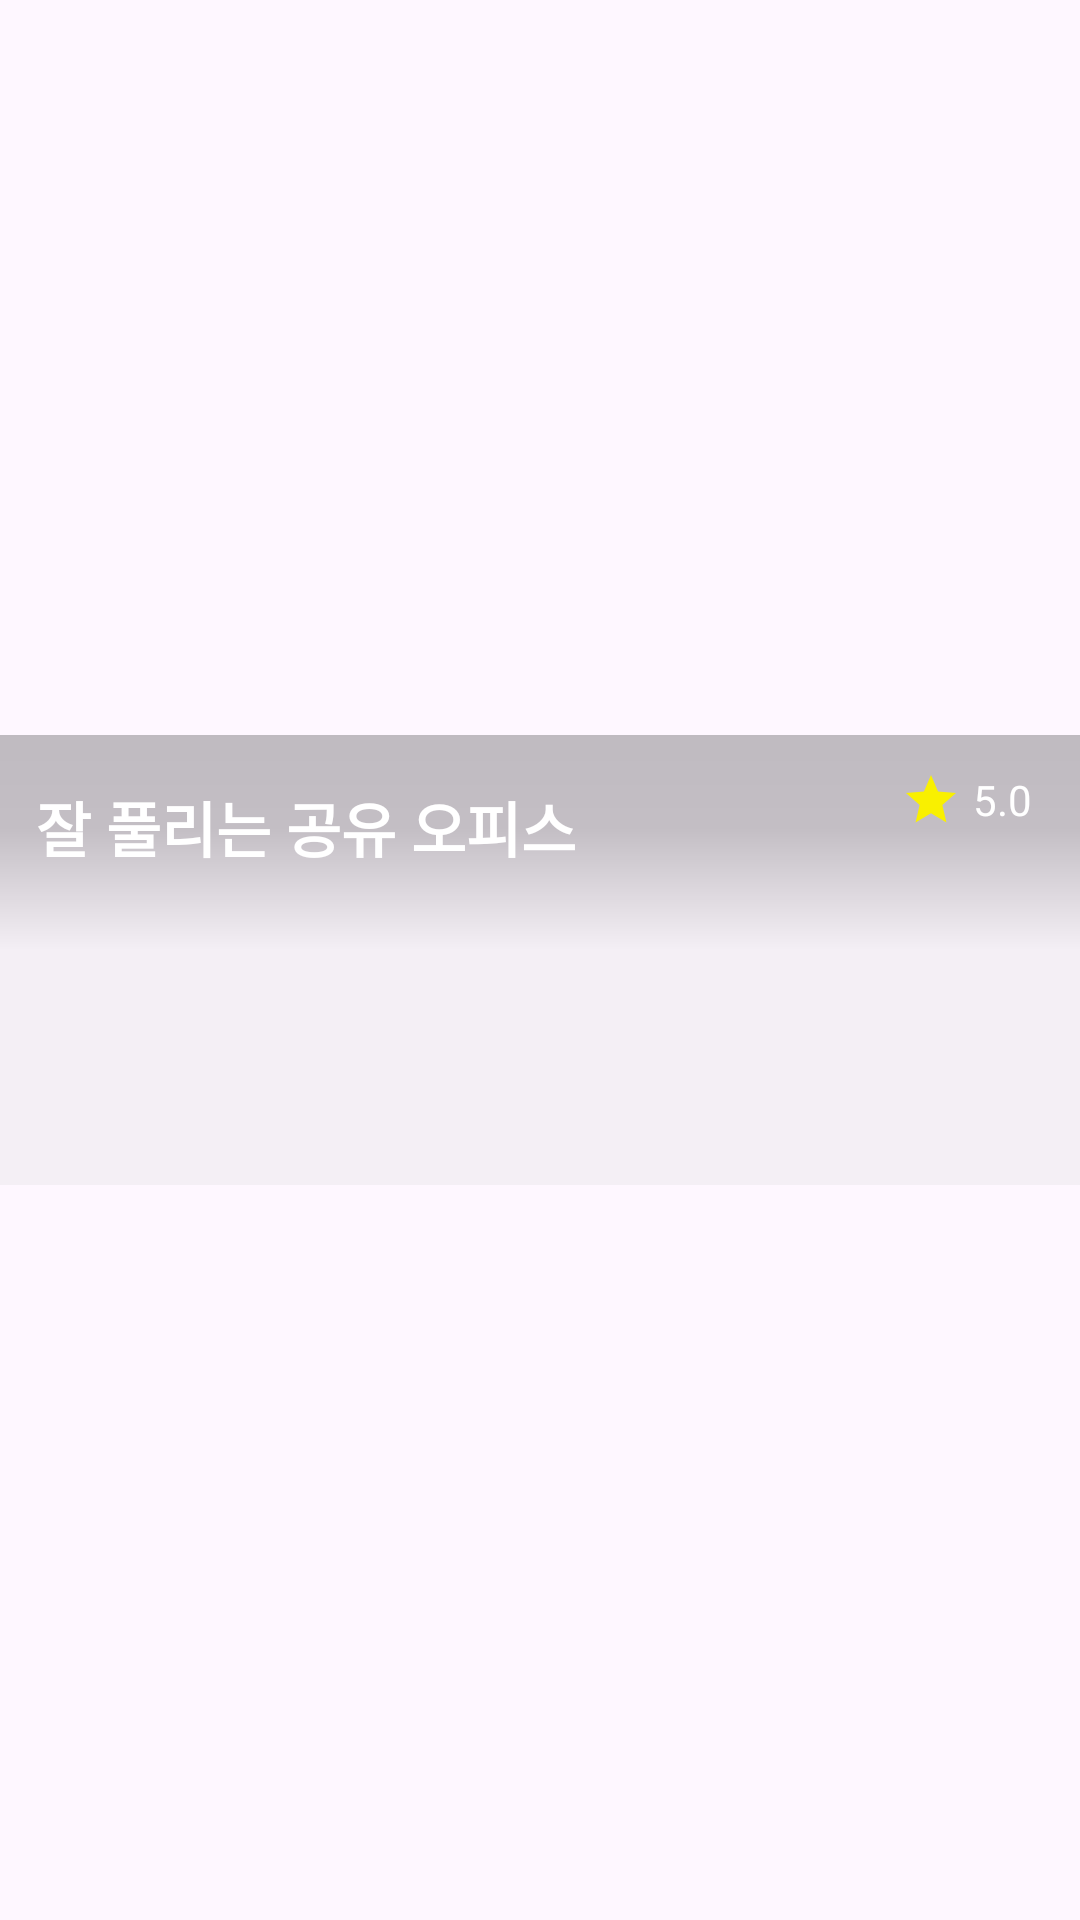

Where icons sit on this 1080px x 1920px app screen, as region(x1, y1, x2, y2):
star rating: region(906, 775, 956, 823)
